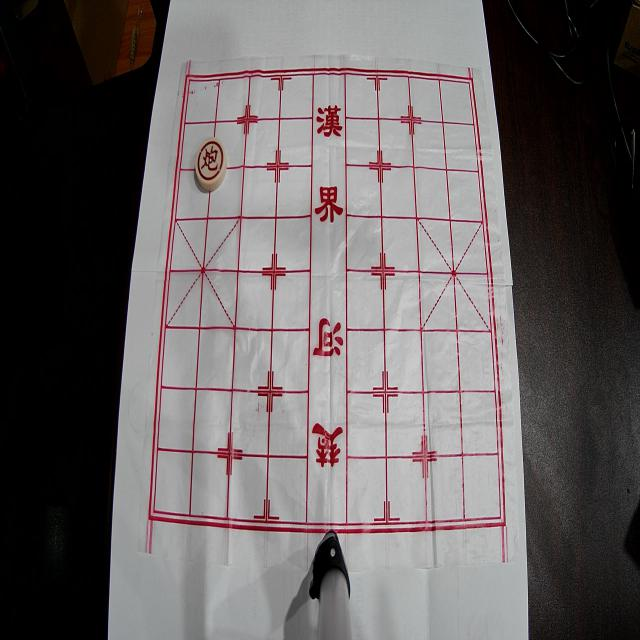red-cannon: (196, 137, 227, 191)
